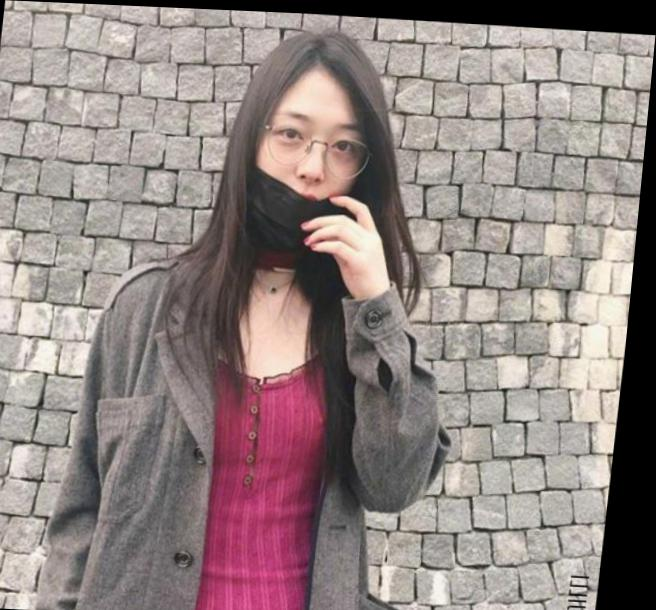WRONG: (235, 99, 376, 257)
